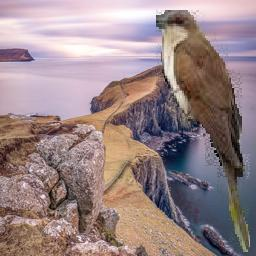Cuckoo: (154, 10, 250, 252)
